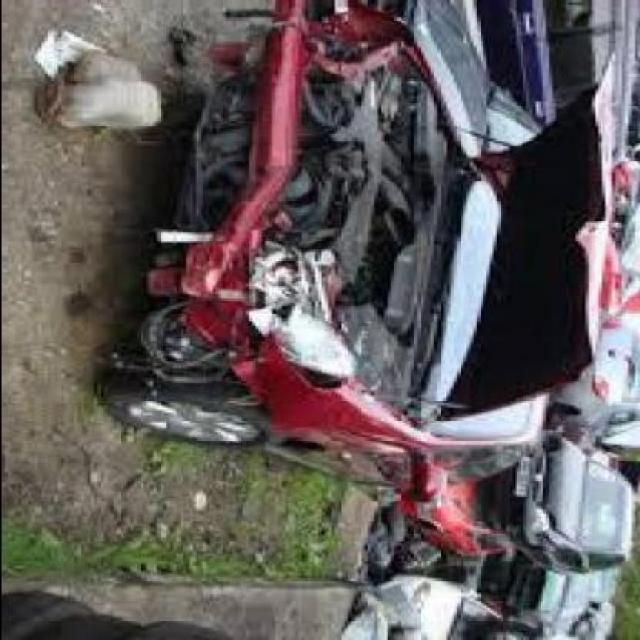damage: (155, 0, 609, 431)
